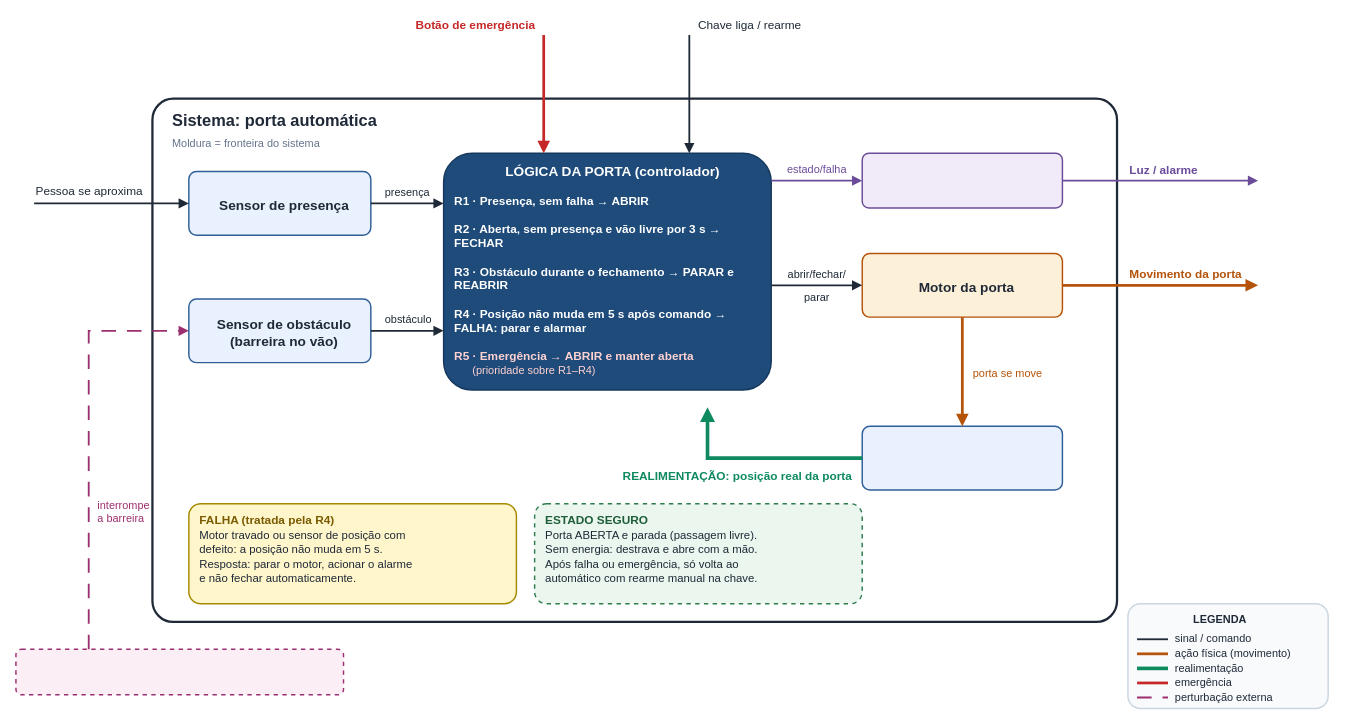
This 1345x724 diagram has some shape labels left out. The shapes that lost their labels are listed below. From the top down, each one's box as (x1, y1, x2, y2) in pixels, then its label:
(861, 152, 1063, 208): Sinalizador (luz e alarme)
(861, 425, 1063, 490): Sensor de posição (aberta / fechada)
(15, 648, 344, 695): Perturbação: pessoa ou objeto parado no vão da porta
